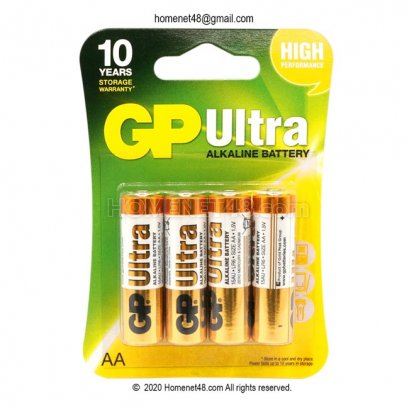Battery: (251, 189, 298, 346), (119, 192, 165, 346), (164, 190, 208, 346), (208, 189, 250, 347)
